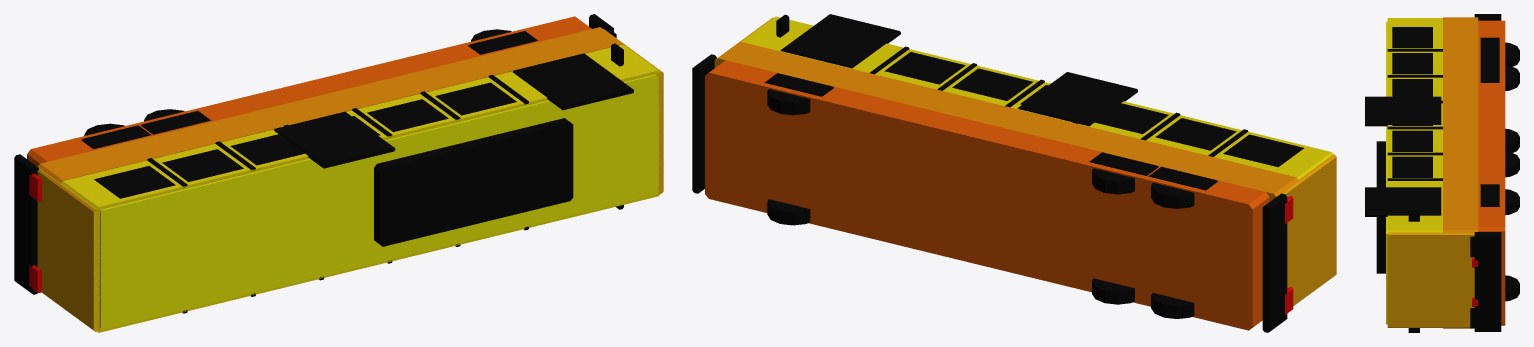
Rendered from bus-canonical.obj.
The picture shows the model from 3 angles, left to right: view 1: azimuth 30°, elevation 25°; view 2: azimuth 150°, elevation 25°; view 3: azimuth 270°, elevation 25°; orthographic projection. The views are drawn at different scales.
Parts seen in each view (by area): view 1: RoofPanel, RoofPack, LowerBody, UpperBody, Skirt, RearCap, DoorFrame_Front, DoorFrame_Middle, BumperRear, SideWindow_4_1, SideWindow_5_1, SideWindow_0_1 (+6 smaller); view 2: Skirt, LowerBody, UpperBody, RearCap, DoorFrame_Front, DoorFrame_Middle, BumperRear, BumperFront, SideWindow_0_1, SideWindow_5_1, SideWindow_1_1, SideWindow_4_1 (+10 smaller); view 3: FrontCap, LowerBody, Skirt, UpperBody, BumperFront, DoorFrame_Middle, DoorFrame_Front, RoofPack, SideWindow_0_1, SideWindow_1_1, SideWindow_4_1, SideWindow_5_1 (+20 smaller).
Part boxes in pixels (box(x1,y1,x2,y2)): RoofPanel: box(100, 74, 658, 329); RoofPack: box(374, 118, 573, 246); LowerBody: box(38, 27, 624, 183); UpperBody: box(61, 44, 661, 332); Skirt: box(27, 16, 591, 166); RearCap: box(37, 167, 100, 331); DoorFrame_Front: box(513, 53, 633, 110); DoorFrame_Middle: box(274, 111, 395, 168); BumperRear: box(14, 154, 39, 294); SideWindow_4_1: box(367, 99, 448, 132); SideWindow_5_1: box(435, 82, 516, 115); SideWindow_0_1: box(94, 165, 175, 198); Skirt: box(705, 60, 1269, 330); LowerBody: box(714, 41, 1298, 201); UpperBody: box(741, 16, 1333, 179); RearCap: box(1277, 154, 1336, 305); DoorFrame_Front: box(780, 14, 900, 68); DoorFrame_Middle: box(1017, 72, 1137, 126); BumperRear: box(1262, 193, 1287, 332); BumperFront: box(692, 54, 716, 193); SideWindow_0_1: box(1223, 134, 1303, 167); SideWindow_5_1: box(884, 52, 965, 84); SideWindow_1_1: box(1155, 118, 1236, 150); SideWindow_4_1: box(952, 68, 1032, 100); FrontCap: box(1387, 232, 1474, 327); LowerBody: box(1443, 17, 1478, 328); Skirt: box(1478, 20, 1505, 325); UpperBody: box(1387, 18, 1442, 232); BumperFront: box(1474, 232, 1501, 331); DoorFrame_Middle: box(1365, 96, 1441, 126); DoorFrame_Front: box(1365, 187, 1441, 216); RoofPack: box(1376, 141, 1385, 273); SideWindow_0_1: box(1392, 27, 1432, 48); SideWindow_1_1: box(1392, 53, 1432, 74); SideWindow_4_1: box(1392, 130, 1432, 151); SideWindow_5_1: box(1392, 156, 1432, 177).
Bounding box in the file's own units: 1208 × 318 × 358.
